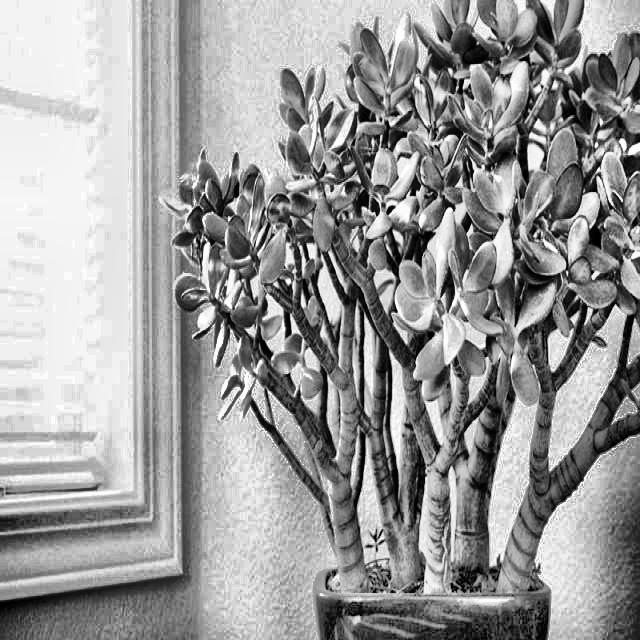plants: (182, 17, 640, 640)
